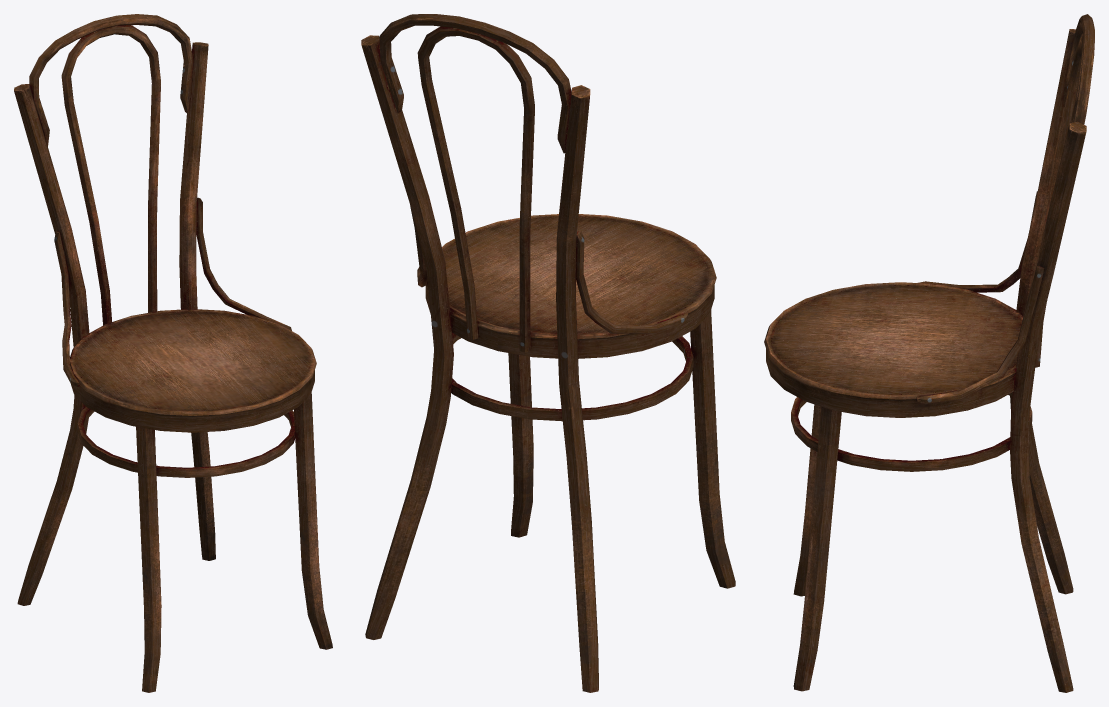
Rendered from office chair.fbx.
3 renders of one model, left to right at view 1: azimuth 30°, elevation 25°; view 2: azimuth 150°, elevation 25°; view 3: azimuth 270°, elevation 25°, orthographic. The views are drawn at different scales.
Parts seen in each view (by area): view 1: chair; view 2: chair; view 3: chair.
Part boxes in pixels (x1,y1,x2,y2): chair: [14, 14, 332, 692]; chair: [361, 14, 735, 692]; chair: [764, 14, 1094, 692].
Size of the model in its own units: 0.2012 by 0.4841 by 0.2386.
Materials: 1 (1 with a texture image).
